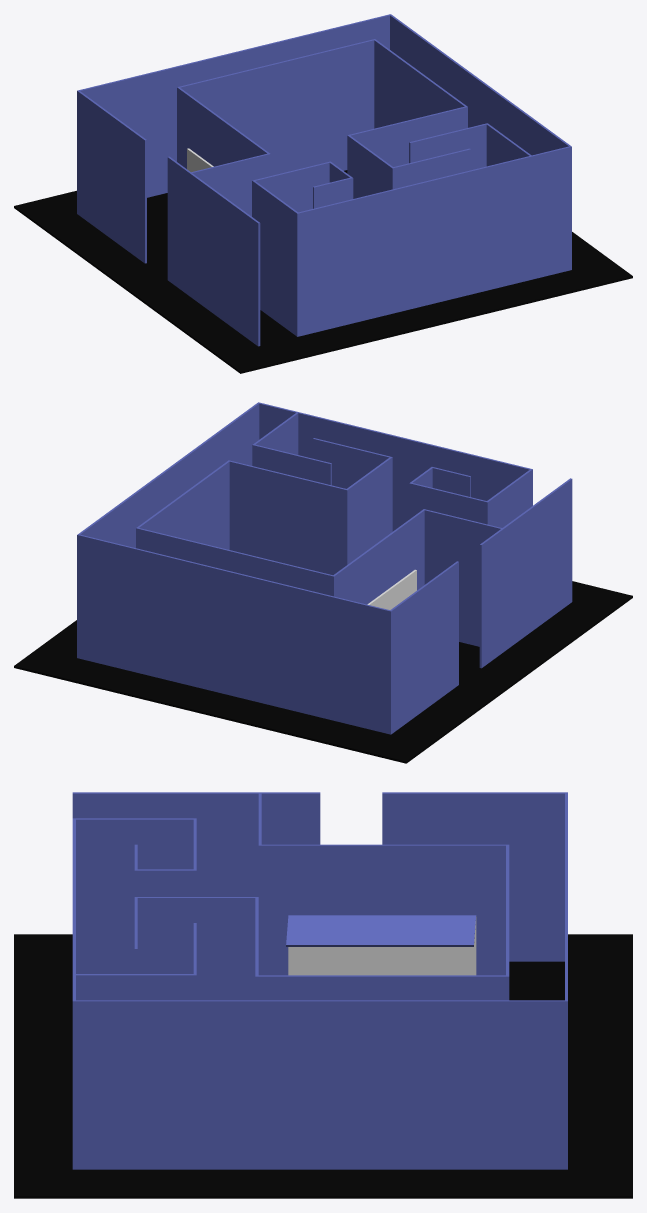
File: Test Level 2.fbx
3 views of the same model, one above another, from view 1: azimuth 30°, elevation 25°; view 2: azimuth 150°, elevation 25°; view 3: azimuth 270°, elevation 25° (orthographic). The views are drawn at different scales.
Parts seen in each view (by area): view 1: Maze2_col; view 2: Maze2_col, Maze2_col.001; view 3: Maze2_col, Maze2_col.001.
Part boxes in pixels (x1=…): Maze2_col: x1=14, y1=14, x2=632, y2=373; Maze2_col: x1=14, y1=402, x2=632, y2=763; Maze2_col.001: x1=367, y1=569, x2=416, y2=609; Maze2_col: x1=14, y1=792, x2=632, y2=1198; Maze2_col.001: x1=288, y1=916, x2=476, y2=975.
Size of the model in its own units: 2000 by 610 by 2000.
